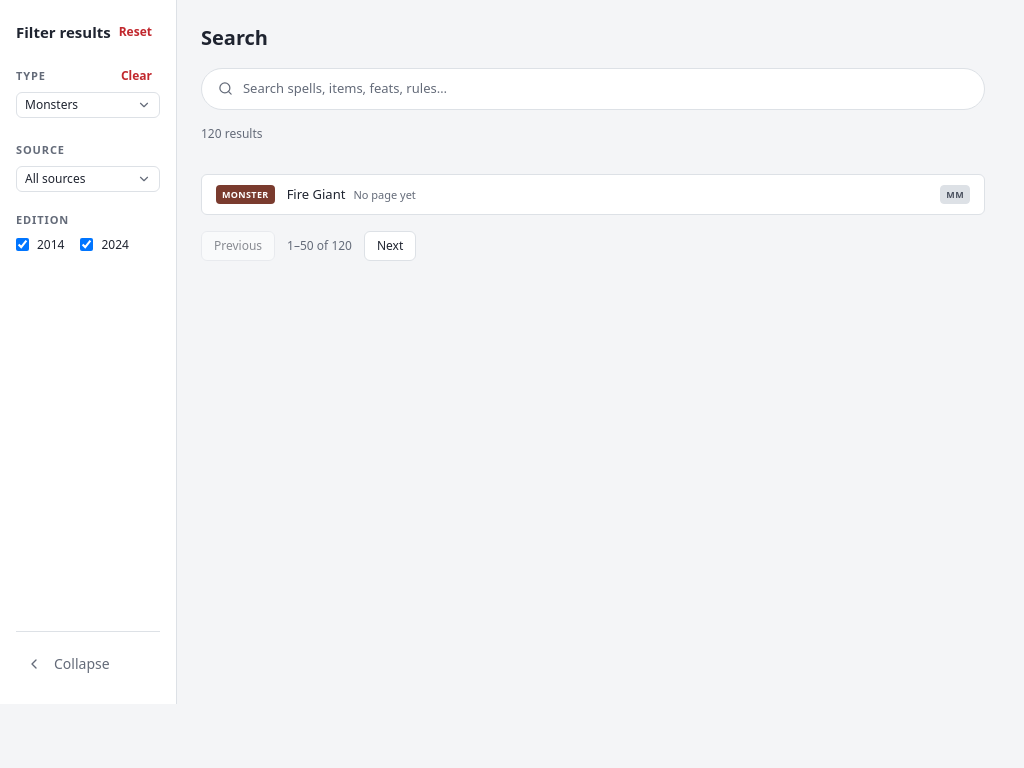
Test: SearchPage › pages through results by offset
Expected: the button "Previous" is disabled, [201,231,275,261]
Click the button "Next": (390, 246) [364,231,416,261]
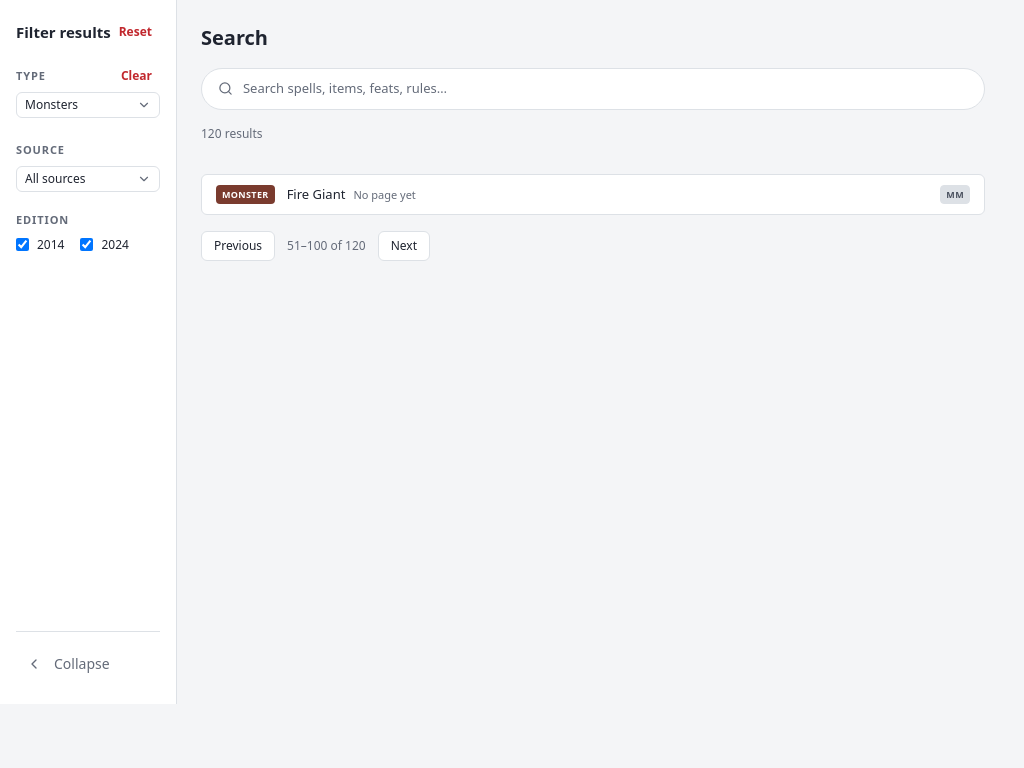
Expected: the text "51–100 of 120" is shown, [287,238,366,254]
